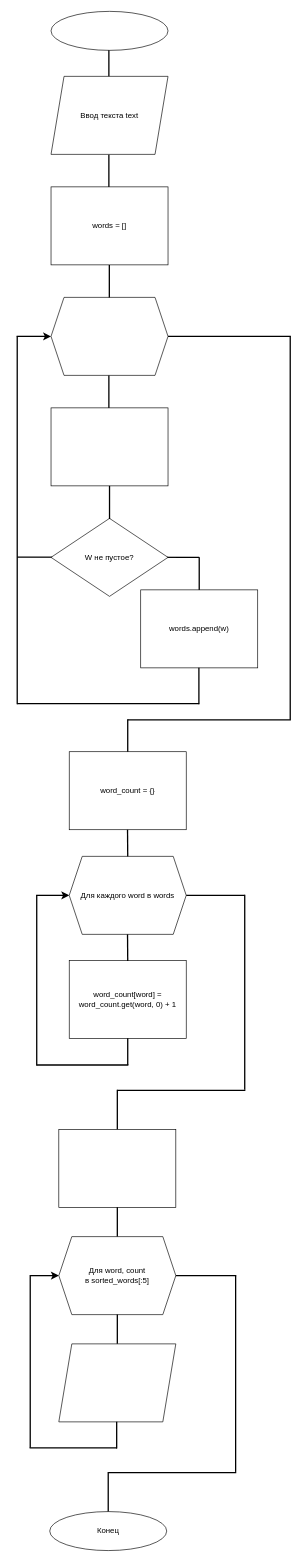
Image size: 303x1562. Some labels were removed from this diagram. The shapes that lost their labels are listed below. From the top down, each one's centre as x and y in pixels, then its label:
pixel 109 30: Начало
pixel 109 336: Для w в text
pixel 109 446: w = w.strip('.,!?;:"()-')
pixel 117 1168: sorted_words = sorted(word_count.items(), key=lambda i: i[1], reverse=True)
pixel 117 1382: Вывод word, count
